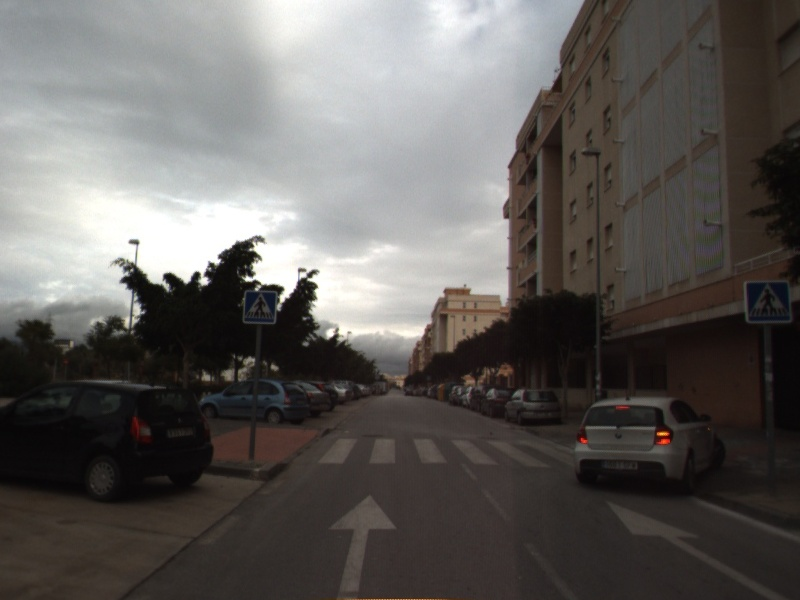STRAIGHT: (604, 499, 792, 600), (326, 492, 400, 600)
